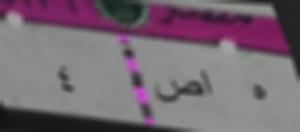4: (54, 61, 78, 99)
alif: (202, 70, 217, 99)
haa: (247, 78, 269, 108)
saad: (151, 77, 201, 106)
